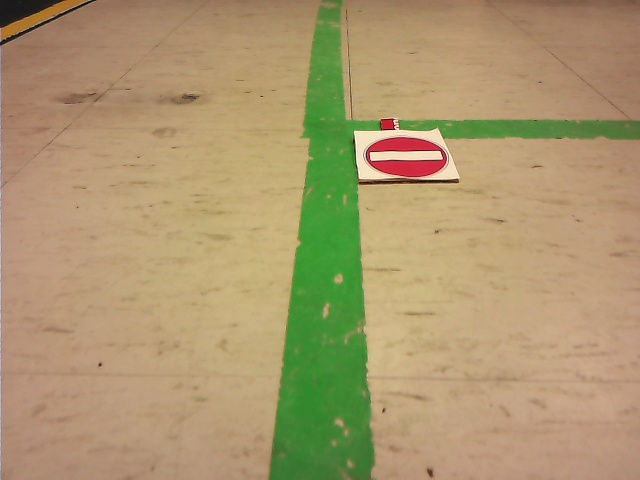NO ENTRY: (366, 137, 449, 176)
